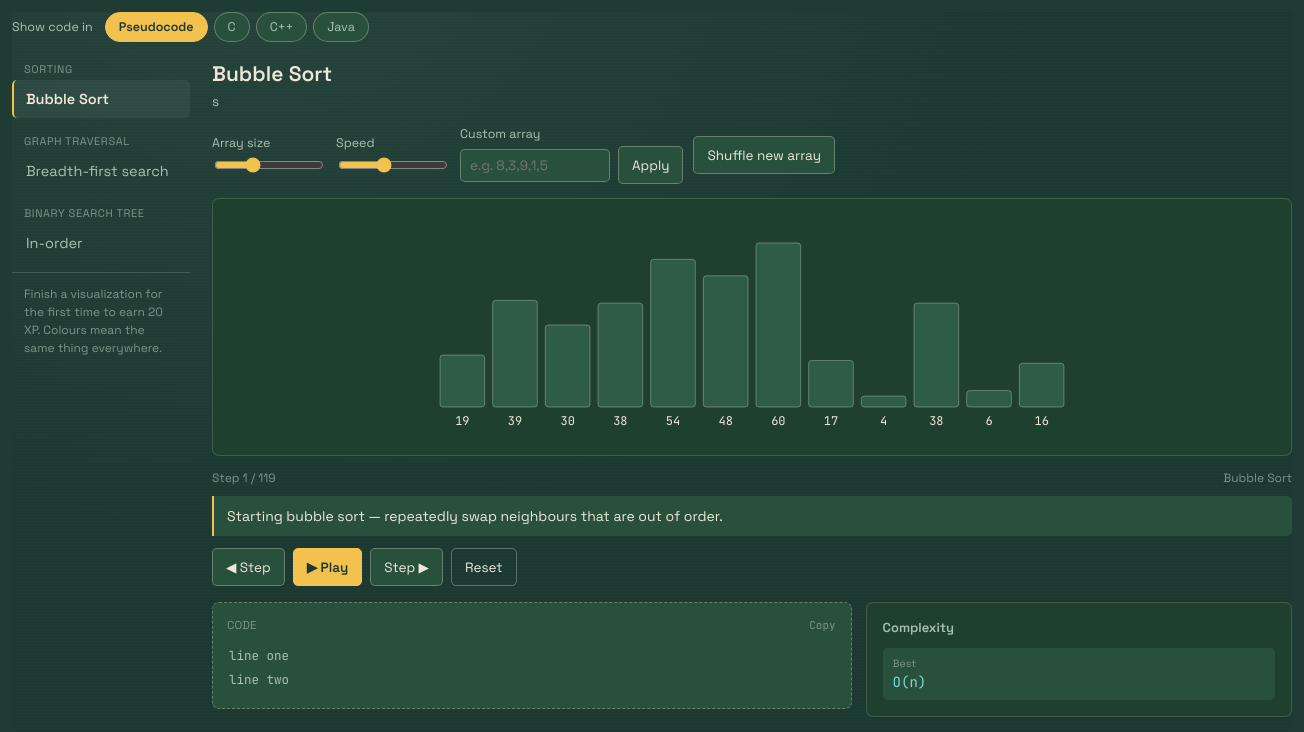
Learn page › stepping advances the narration and switching language swaps the code
expect the heading "Bubble Sort" is shown: met, box [212, 60, 332, 87]
Click the button "Step ▶".
click(407, 567)  # box [370, 548, 443, 586]
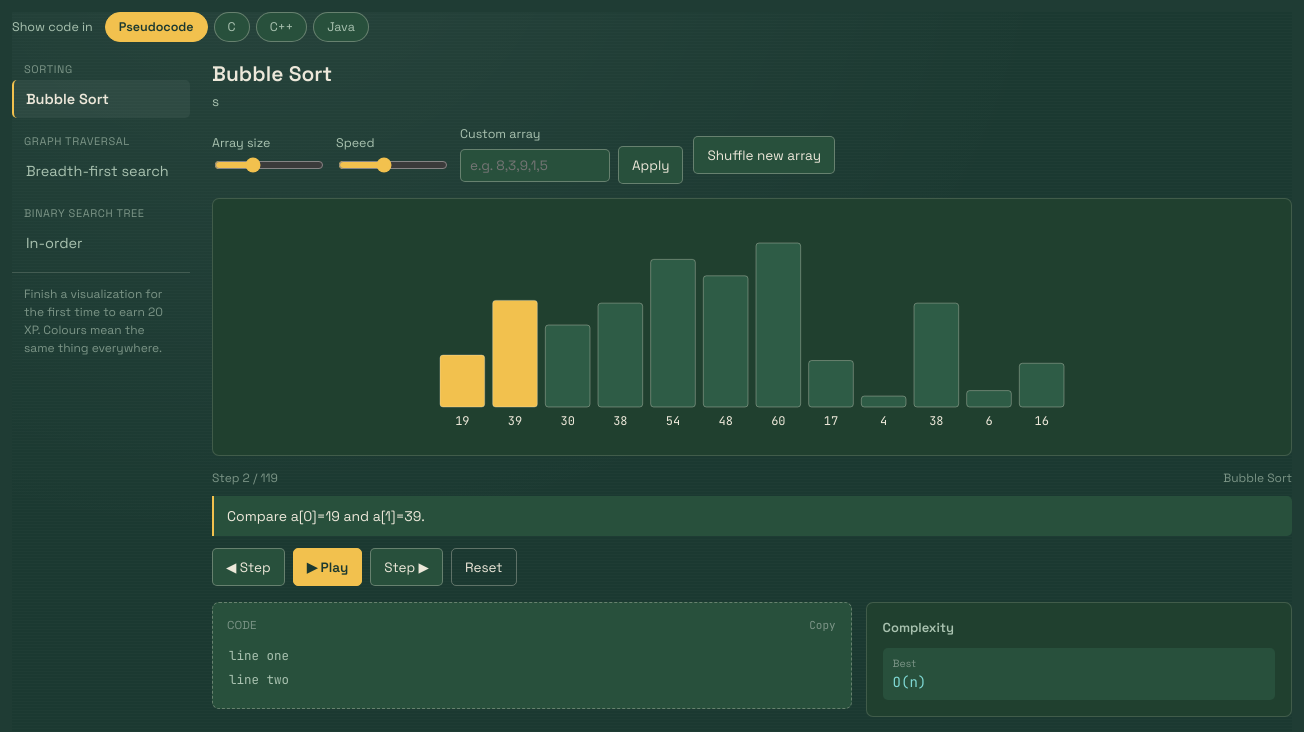
expect the element showing "Step 2 / 119 Bubble Sort" is shown: met, box [212, 470, 1292, 486]
Click the button "Java".
click(341, 27)  # box [313, 12, 369, 42]
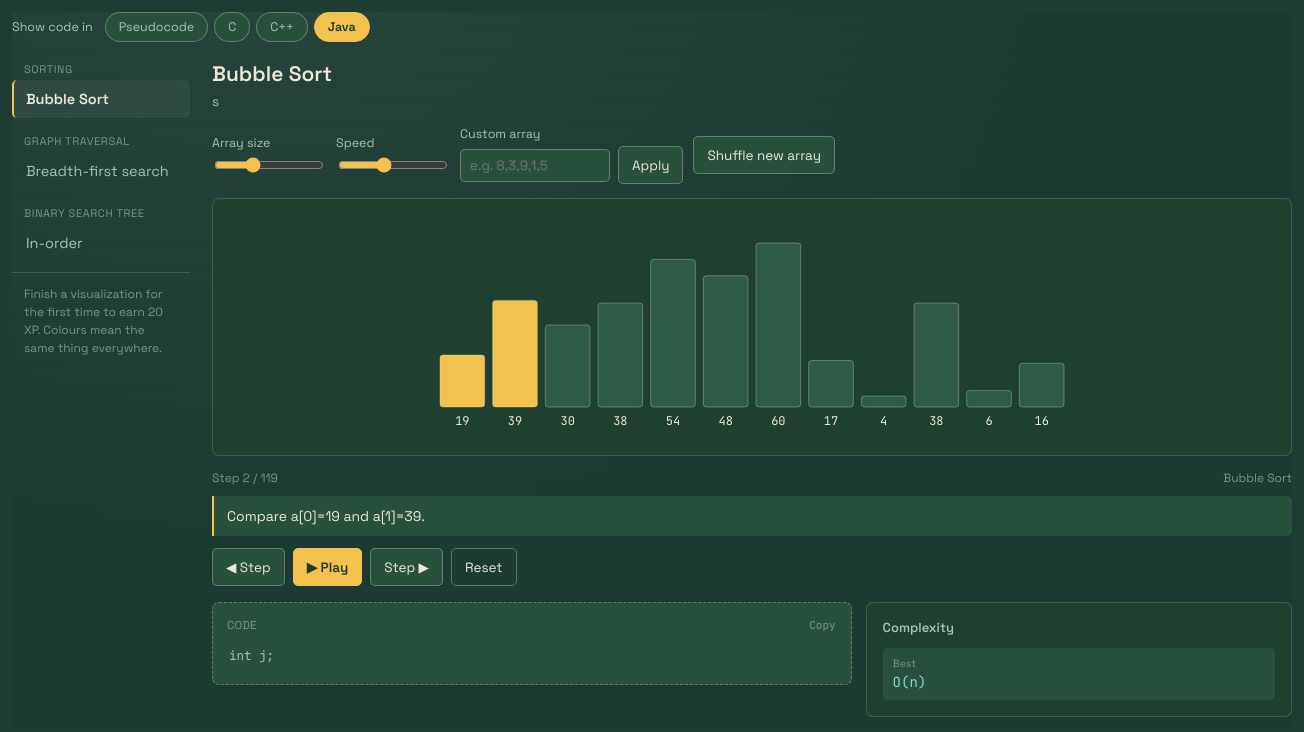
expect the text "int j;" is shown: met, box [229, 647, 274, 664]
